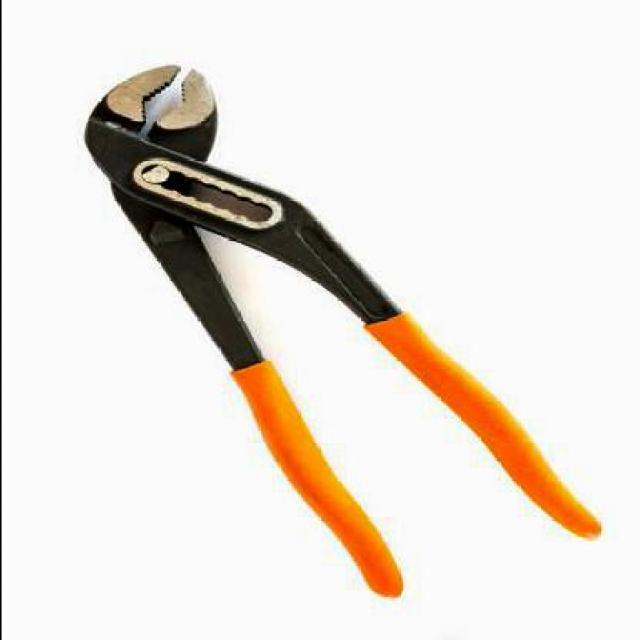pliers: (66, 61, 600, 598)
